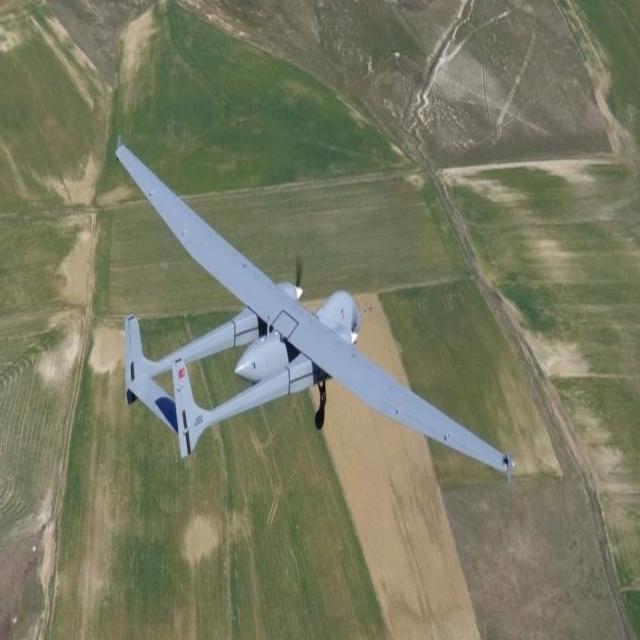iha: (116, 139, 516, 486)
